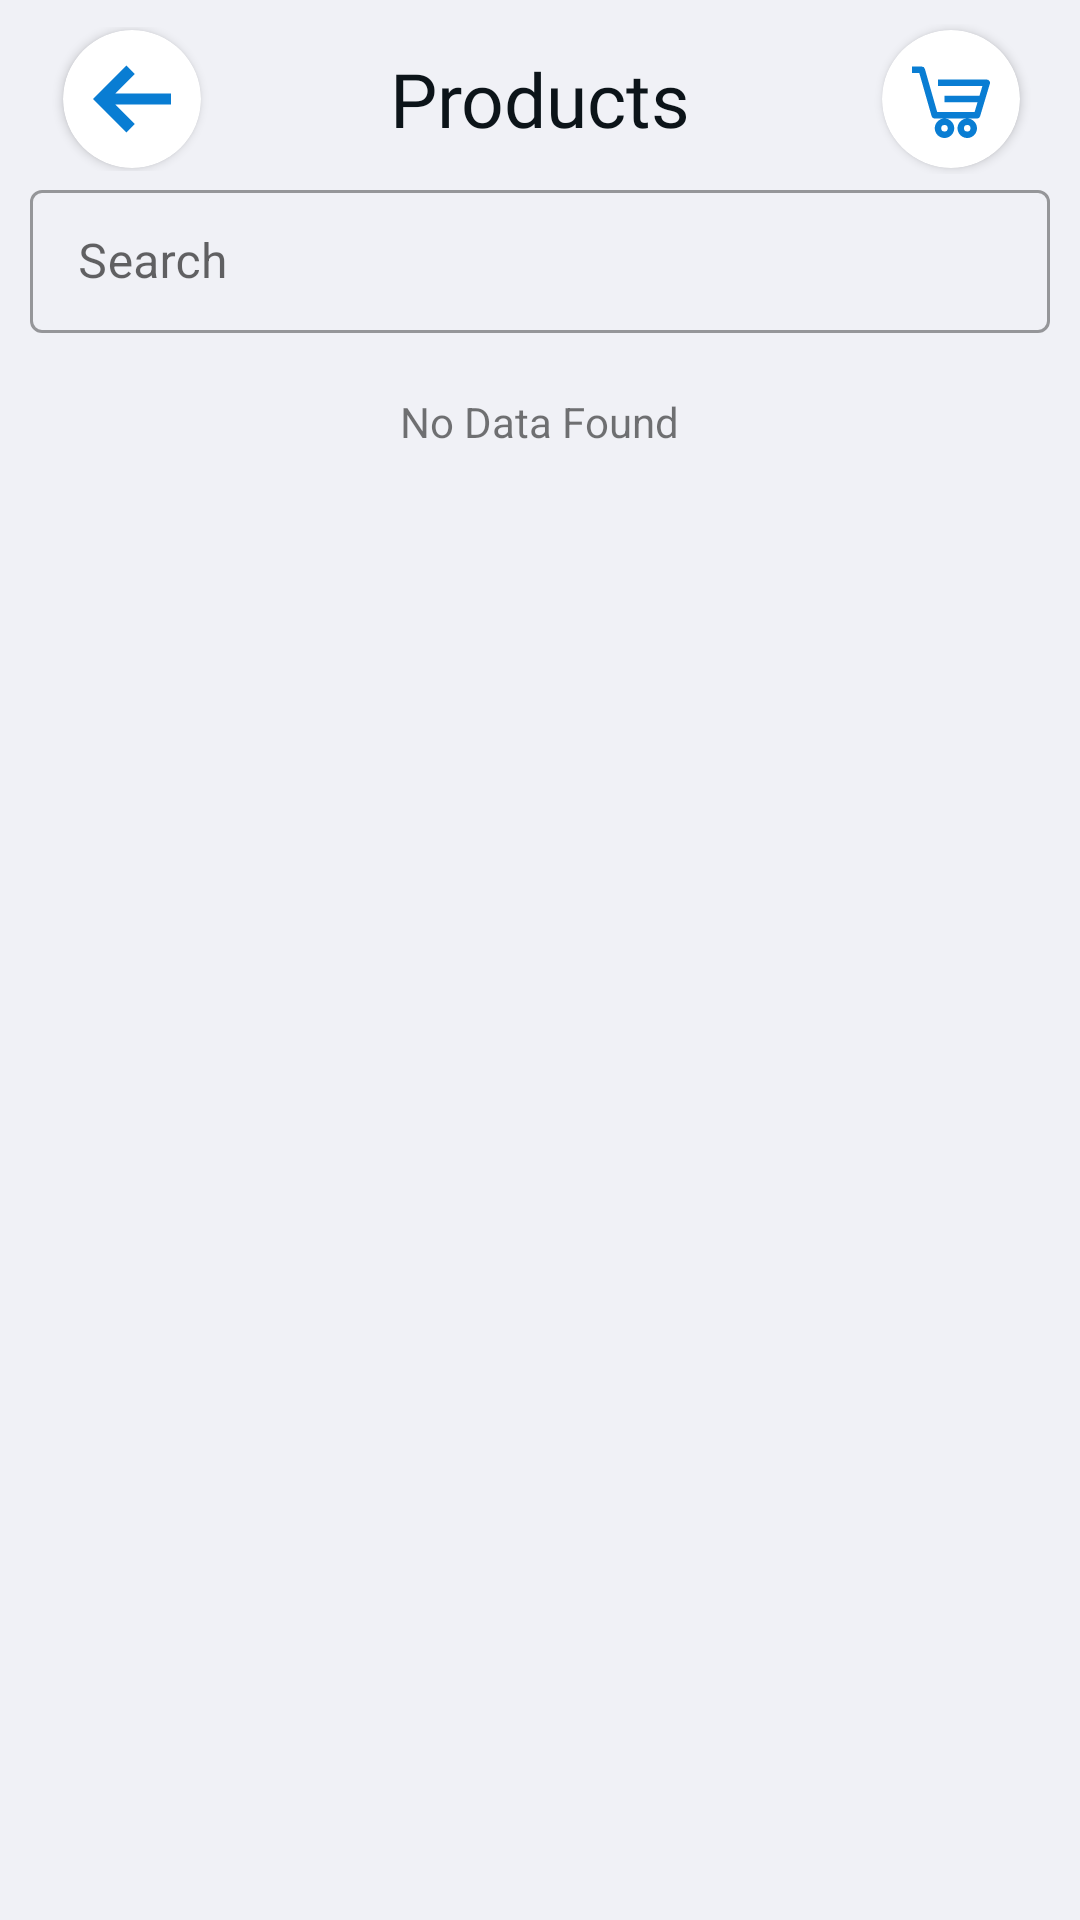

Icon bounding boxes for this 1080×1920 phone screenshot, format (x1, y1, x2, y2):
left arrow: (63, 30, 201, 168)
shopping cart: (882, 30, 1020, 168)
